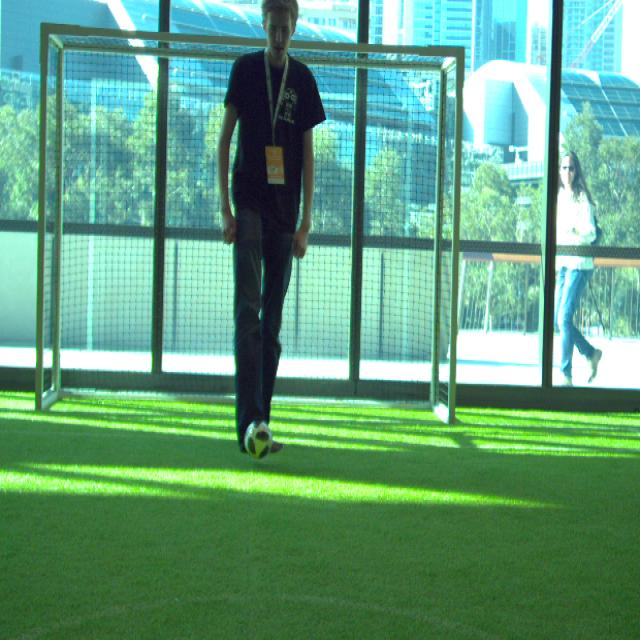ball: (245, 420, 272, 460)
goalpost: (446, 45, 462, 423), (35, 23, 50, 409)
